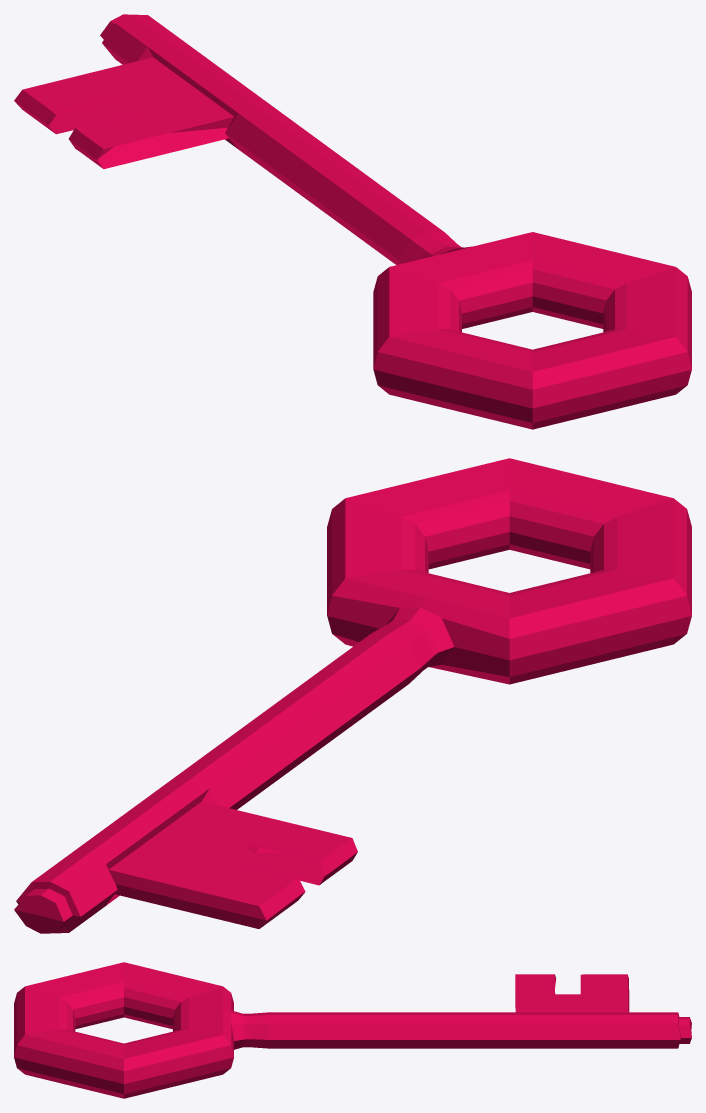
The model's file is key.fbx.
The picture shows the model from 3 angles, top to bottom: view 1: azimuth 30°, elevation 25°; view 2: azimuth 150°, elevation 25°; view 3: azimuth 270°, elevation 25°; orthographic projection. The views are drawn at different scales.
Parts seen in each view (by area): view 1: Torus; view 2: Torus; view 3: Torus.
Part boxes in pixels (x1,y1,x2,y2): Torus: (14, 14, 691, 429); Torus: (14, 458, 691, 933); Torus: (14, 962, 691, 1098).
Bounding box in the file's own units: 250 × 43.3 × 667.
